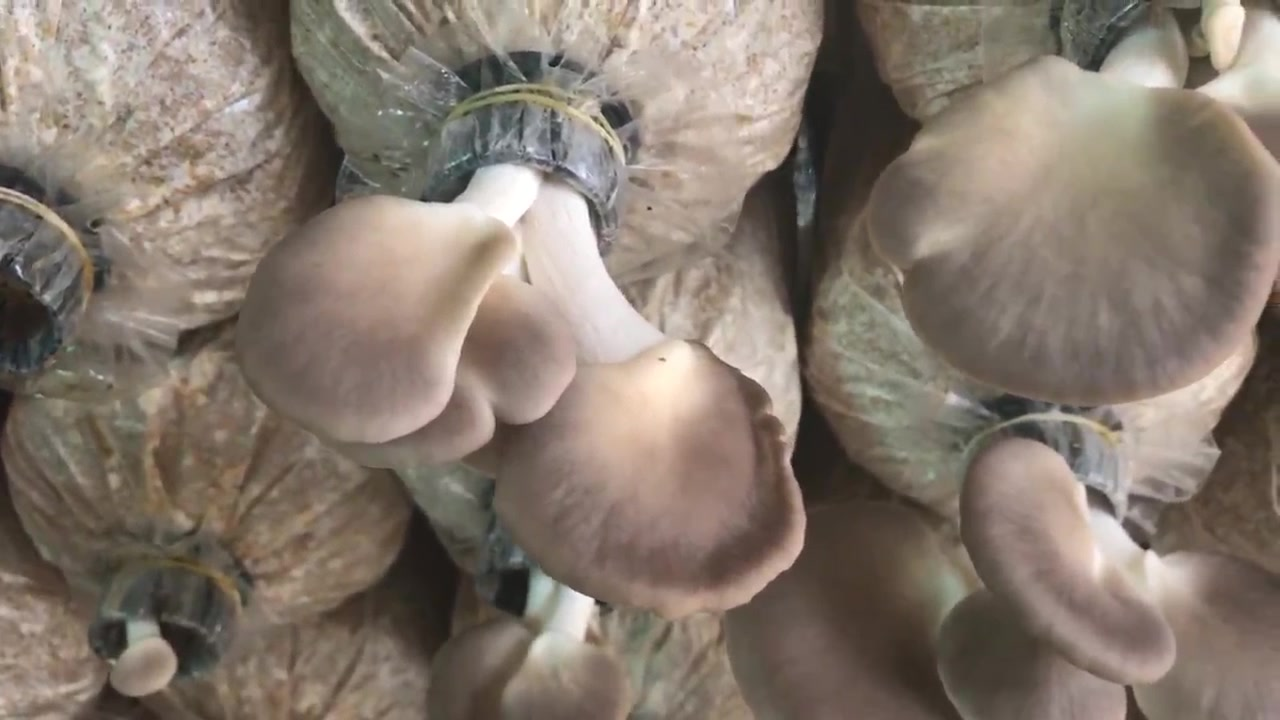nam: (235, 88, 805, 618), (864, 2, 1280, 406), (728, 415, 1280, 718), (425, 519, 626, 720), (93, 555, 239, 695)
